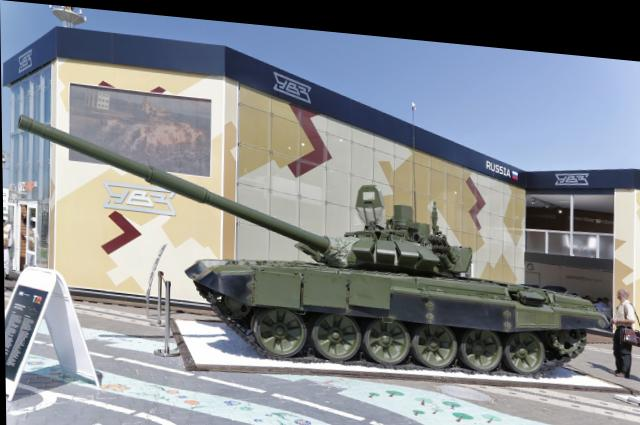other: (611, 272, 636, 367)
tank: (198, 199, 600, 370)
